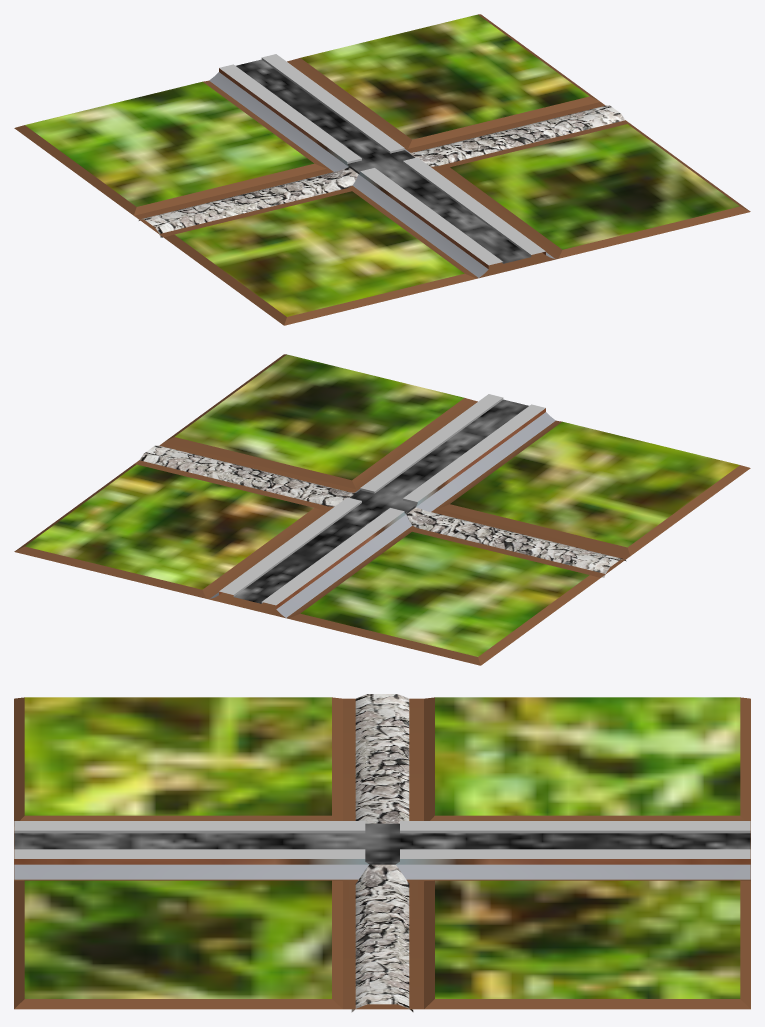
File: calle_pueblo 1.fbx
The picture shows the model from 3 angles, top to bottom: view 1: azimuth 30°, elevation 25°; view 2: azimuth 150°, elevation 25°; view 3: azimuth 270°, elevation 25°; orthographic projection. The views are drawn at different scales.
Parts seen in each view (by area): view 1: Cube; view 2: Cube; view 3: Cube.
Part boxes in pixels (x1=…): Cube: x1=14, y1=14, x2=750, y2=325; Cube: x1=14, y1=354, x2=750, y2=665; Cube: x1=14, y1=694, x2=750, y2=1012.
Size of the model in its own units: 6285 by 168 by 6300.
